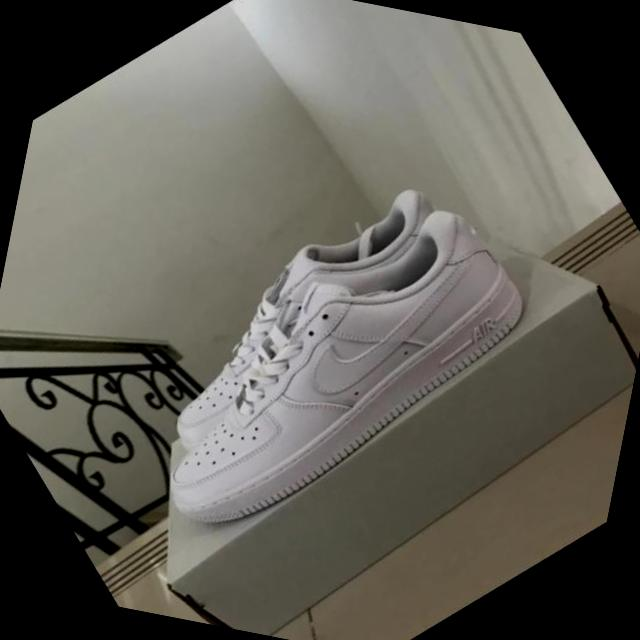nike_original_airforce: (71, 118, 584, 617), (113, 123, 494, 490)
